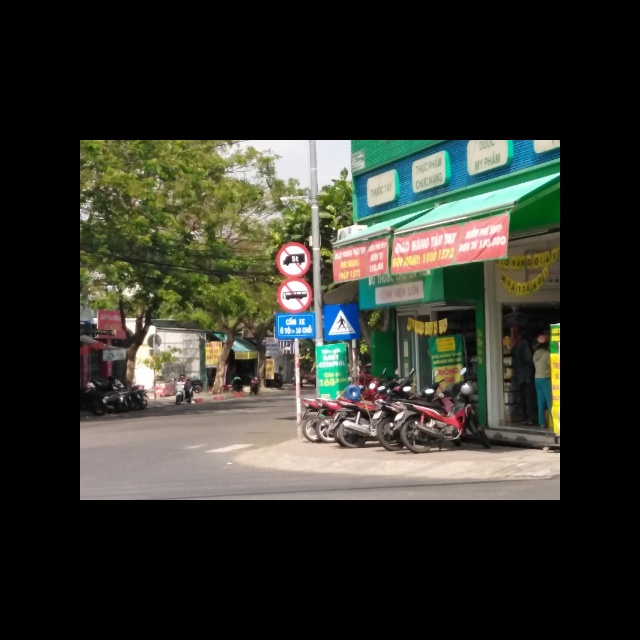Cấm xe tải: (275, 242, 312, 278)
Cấm xe xe khách: (276, 277, 312, 313)
Đường dành cho người đi bộ: (324, 304, 361, 341)
